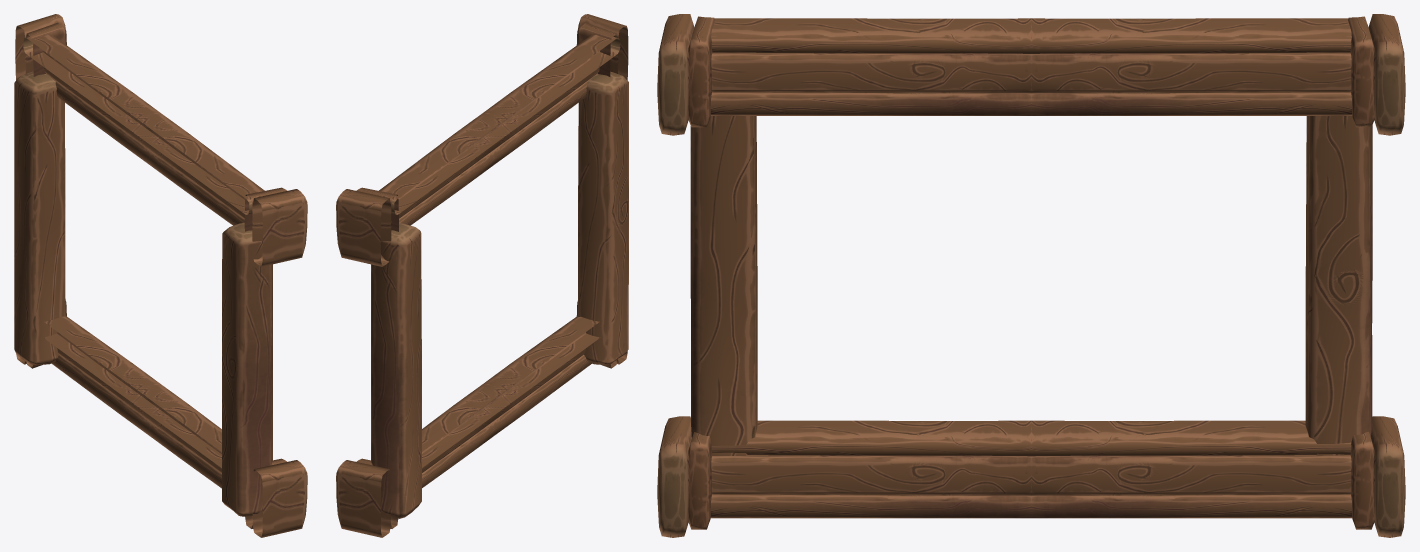
The model's file is Frame.fbx.
3 views of the same model, side by side, from view 1: azimuth 30°, elevation 25°; view 2: azimuth 150°, elevation 25°; view 3: azimuth 270°, elevation 25° (orthographic). The views are drawn at different scales.
Visible parts, largest first — view 1: Lowpoly 2.006; view 2: Lowpoly 2.006; view 3: Lowpoly 2.006.
Part boxes in pixels (x1=…): Lowpoly 2.006: x1=14, y1=14, x2=307, y2=537; Lowpoly 2.006: x1=336, y1=14, x2=628, y2=537; Lowpoly 2.006: x1=657, y1=14, x2=1405, y2=537.
Size of the model in its own units: 231 by 1282 by 1744.
